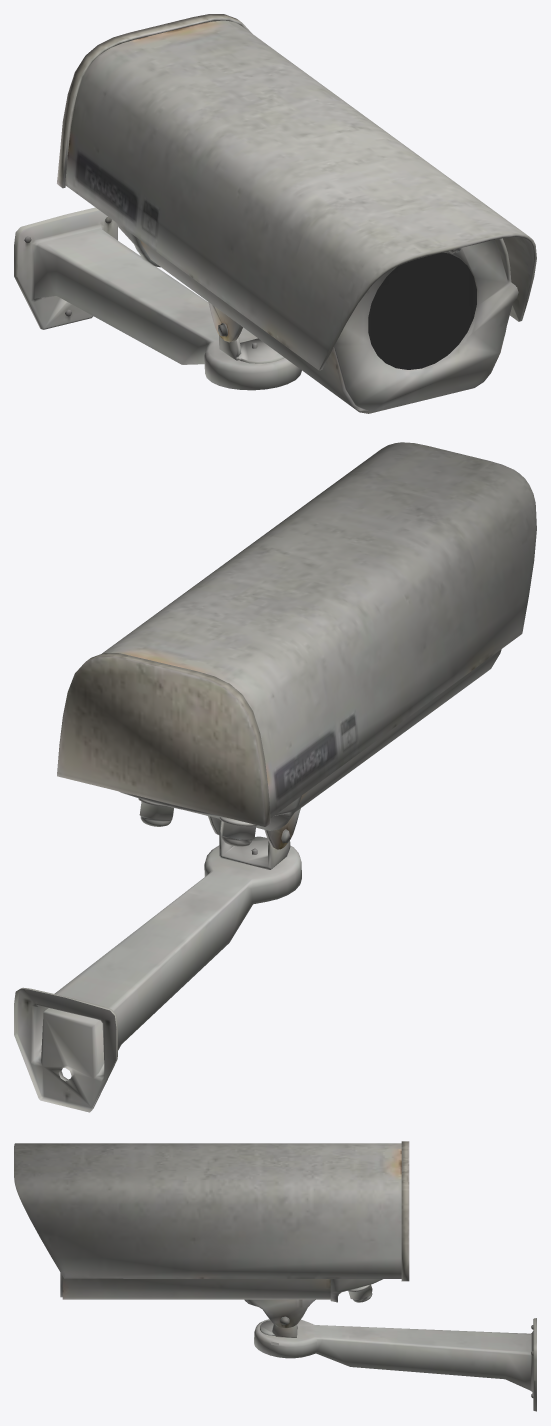
File: security-camera-01.glb
3 renders of one model, top to bottom at view 1: azimuth 30°, elevation 25°; view 2: azimuth 150°, elevation 25°; view 3: azimuth 270°, elevation 25°, orthographic. The views are drawn at different scales.
Visible parts, largest first — view 1: security_camera_01; view 2: security_camera_01; view 3: security_camera_01.
Boxes of the visible parts, box(x1,y1,x2,y2) form: security_camera_01: box(14, 14, 536, 413); security_camera_01: box(14, 442, 536, 1112); security_camera_01: box(14, 1141, 536, 1411).
Bounding box in the file's own units: 0.1695 × 0.2861 × 0.5537.
2 materials, 2 textured.
